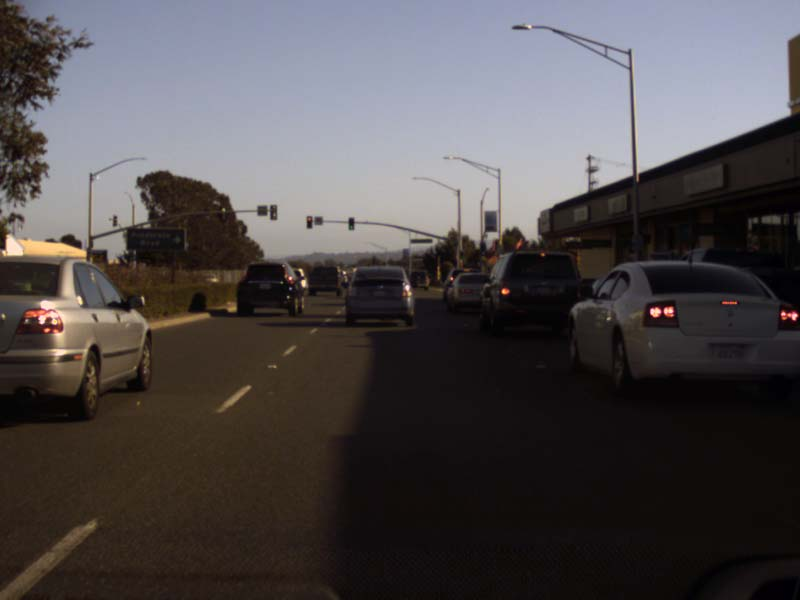Green: (347, 217, 354, 230)
Red: (306, 215, 311, 228)
